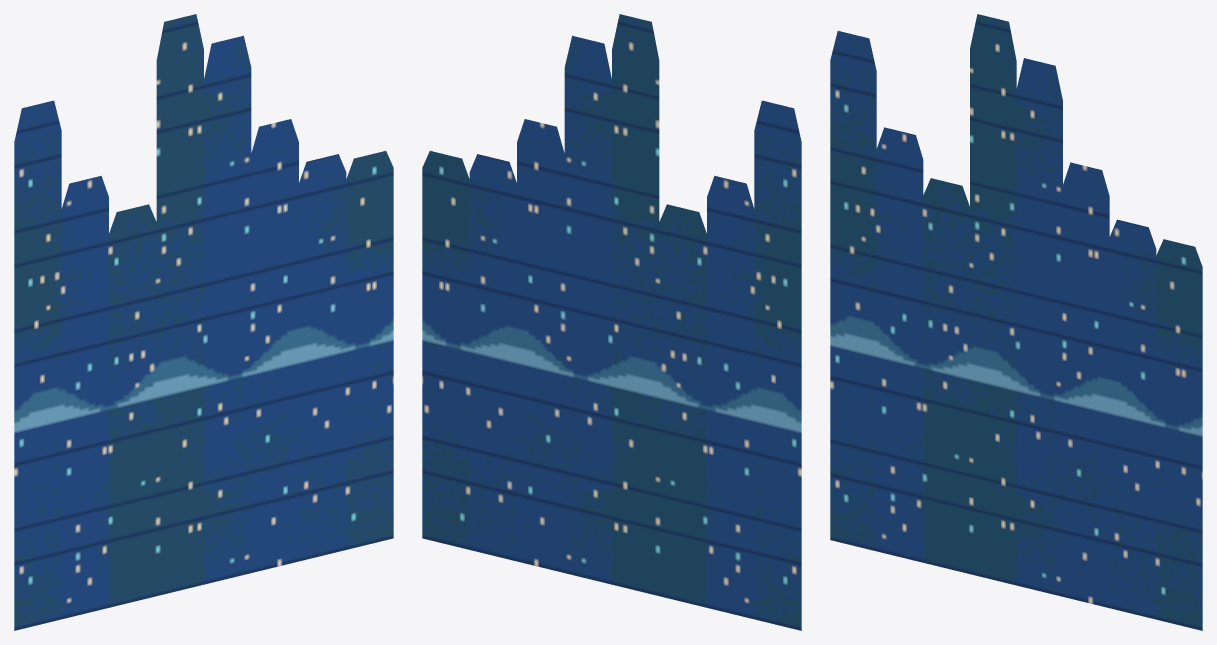
Rendered from cysky.far__tile.glb.
3 views of the same model, side by side, from view 1: azimuth 30°, elevation 25°; view 2: azimuth 150°, elevation 25°; view 3: azimuth 330°, elevation 25° (orthographic).
Parts seen in each view (by area): view 1: kit_card_skyline; view 2: kit_card_skyline; view 3: kit_card_skyline.
Part boxes in pixels (bbox=[...]): kit_card_skyline: bbox=[14, 14, 393, 630]; kit_card_skyline: bbox=[422, 14, 801, 630]; kit_card_skyline: bbox=[830, 14, 1202, 630].
Bounding box in the file's own units: 24 × 34.6 × 0.
1 material, 1 textured.
